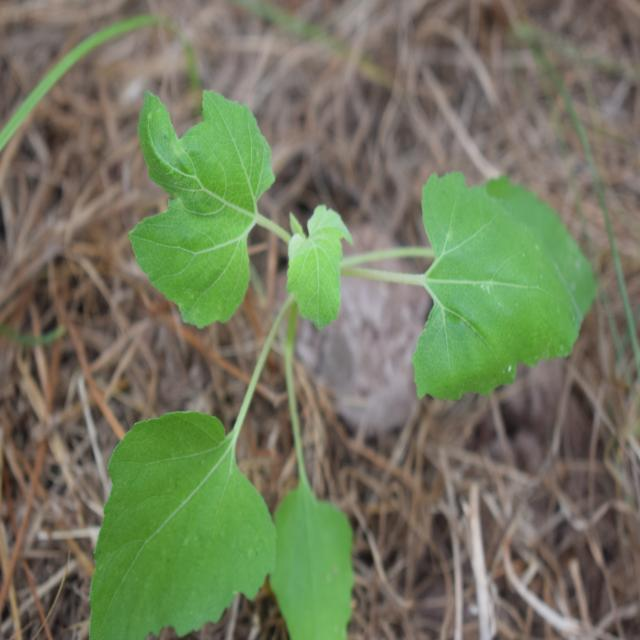cocklebur: (81, 85, 574, 622)
